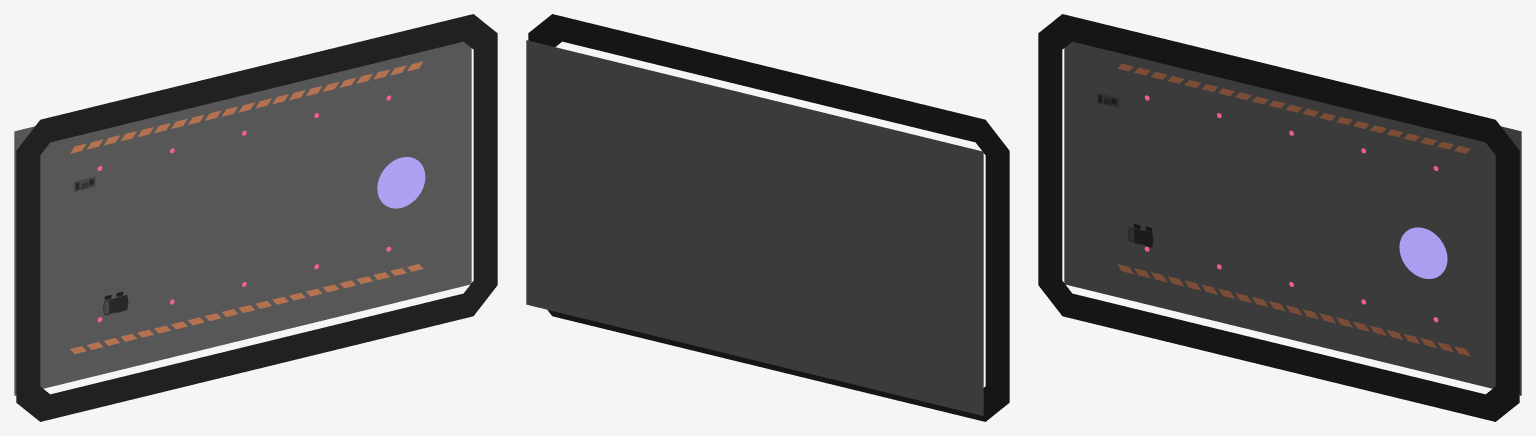
The model's file is Local.glb.
3 views of the same model, side by side, from view 1: azimuth 30°, elevation 25°; view 2: azimuth 150°, elevation 25°; view 3: azimuth 330°, elevation 25° (orthographic).
Visible parts, largest first — view 1: Floor, Border, WarningBar, MatchmakePortal; view 2: Floor, Border; view 3: Floor, Border, WarningBar, MatchmakePortal.
Part boxes in pixels (x1,y1,x2,y2): Floor: (14, 41, 471, 395); Border: (16, 14, 497, 421); WarningBar: (70, 61, 423, 353); MatchmakePortal: (377, 157, 425, 208); Floor: (526, 40, 983, 415); Border: (528, 14, 1009, 421); Floor: (1064, 41, 1521, 395); Border: (1038, 14, 1519, 421); WarningBar: (1117, 63, 1470, 356); MatchmakePortal: (1399, 227, 1447, 278).
Bounding box in the file's own units: 2000 × 1200 × 100.
